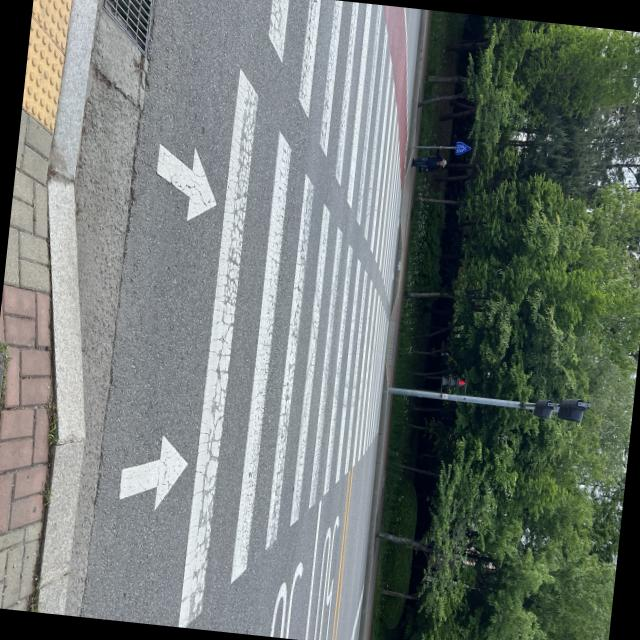red_light: (428, 367, 470, 397)
zebra: (47, 0, 446, 640)
